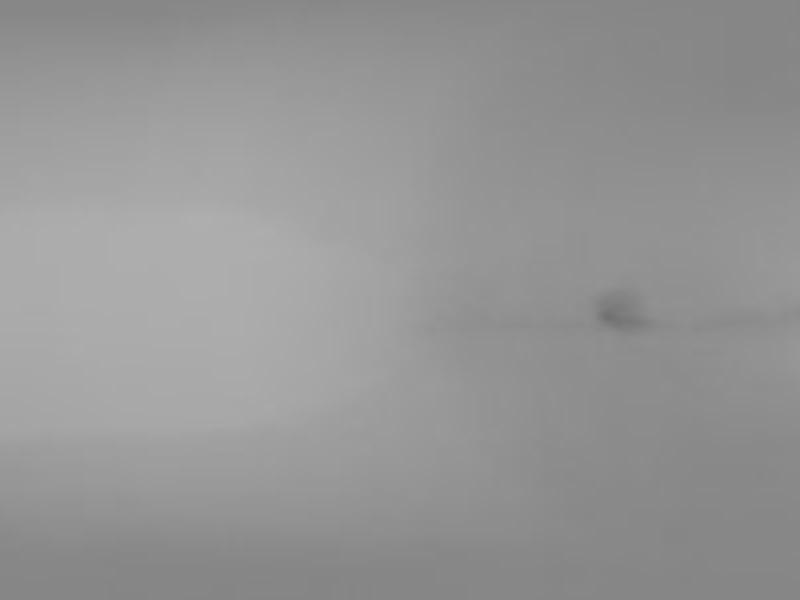defect: (595, 285, 647, 328)
